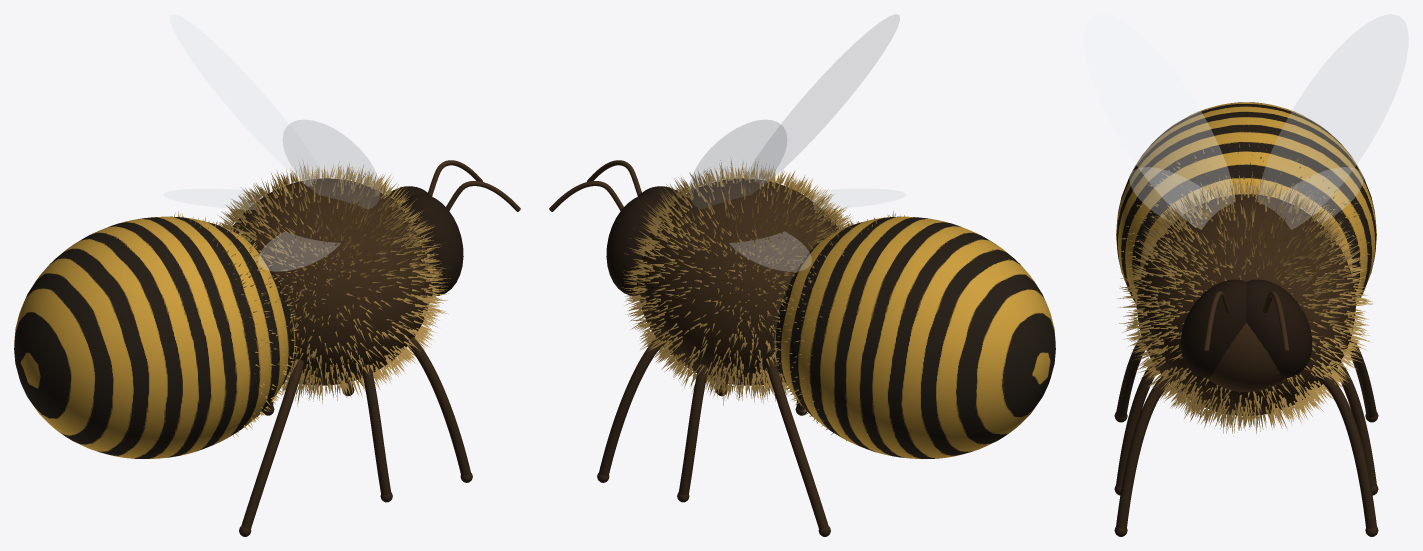
File: bee-hero-cerana-drone.glb
3 renders of one model, left to right at view 1: azimuth 30°, elevation 25°; view 2: azimuth 150°, elevation 25°; view 3: azimuth 270°, elevation 25°, orthographic. The views are drawn at different scales.
Visible parts, largest first — view 1: abdomen, thorax, fuzz_thorax, foreWingL, foreWingR, compoundEyeR, hindWingR, hindLegR, foreLegR, midLegR, hindWingL, fuzz_abdomen; view 2: abdomen, thorax, fuzz_thorax, foreWingR, foreWingL, compoundEyeL, hindWingL, hindLegL, foreLegL, midLegL, hindWingR, fuzz_abdomen; view 3: abdomen, thorax, fuzz_thorax, foreWingL, foreWingR, compoundEyeL, compoundEyeR, head, hindWingR, hindWingL, foreLegL, foreLegR (+7 smaller).
Boxes of the visible parts, bbox=[...] form: abdomen: bbox=[14, 216, 295, 458]; thorax: bbox=[231, 178, 431, 385]; fuzz_thorax: bbox=[214, 160, 450, 406]; foreWingL: bbox=[170, 14, 323, 186]; foreWingR: bbox=[283, 120, 380, 208]; compoundEyeR: bbox=[401, 194, 463, 296]; hindWingR: bbox=[258, 232, 340, 271]; hindLegR: bbox=[241, 359, 304, 529]; foreLegR: bbox=[407, 337, 470, 476]; midLegR: bbox=[361, 364, 391, 495]; hindWingL: bbox=[163, 189, 262, 209]; fuzz_abdomen: bbox=[174, 211, 299, 437]; abdomen: bbox=[774, 216, 1055, 458]; thorax: bbox=[638, 178, 838, 385]; fuzz_thorax: bbox=[622, 157, 854, 405]; foreWingR: bbox=[748, 14, 899, 186]; foreWingL: bbox=[689, 120, 786, 208]; compoundEyeL: bbox=[606, 194, 669, 295]; hindWingL: bbox=[729, 231, 811, 271]; hindLegL: bbox=[765, 359, 828, 529]; foreLegL: bbox=[599, 337, 662, 476]; midLegL: bbox=[678, 364, 708, 495]; hindWingR: bbox=[801, 189, 906, 209]; fuzz_abdomen: bbox=[771, 210, 904, 440]; abdomen: bbox=[1116, 102, 1376, 304]; thorax: bbox=[1137, 194, 1355, 415]; fuzz_thorax: bbox=[1116, 172, 1372, 436]; foreWingL: bbox=[1257, 14, 1408, 229]; foreWingR: bbox=[1084, 14, 1235, 229]; compoundEyeL: bbox=[1246, 279, 1312, 378]; compoundEyeR: bbox=[1180, 279, 1246, 378]; head: bbox=[1207, 323, 1285, 391]; hindWingR: bbox=[1129, 167, 1214, 223]; hindWingL: bbox=[1280, 167, 1363, 222]; foreLegL: bbox=[1320, 374, 1376, 528]; foreLegR: bbox=[1116, 375, 1172, 528].
Size of the model in its own units: 1.11 by 0.9195 by 0.6213.
Materials: 6 (1 with a texture image).
